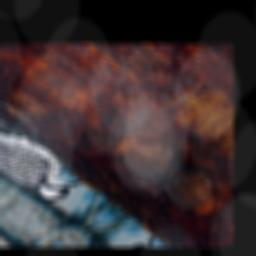Woodpecker: (0, 112, 101, 212)
